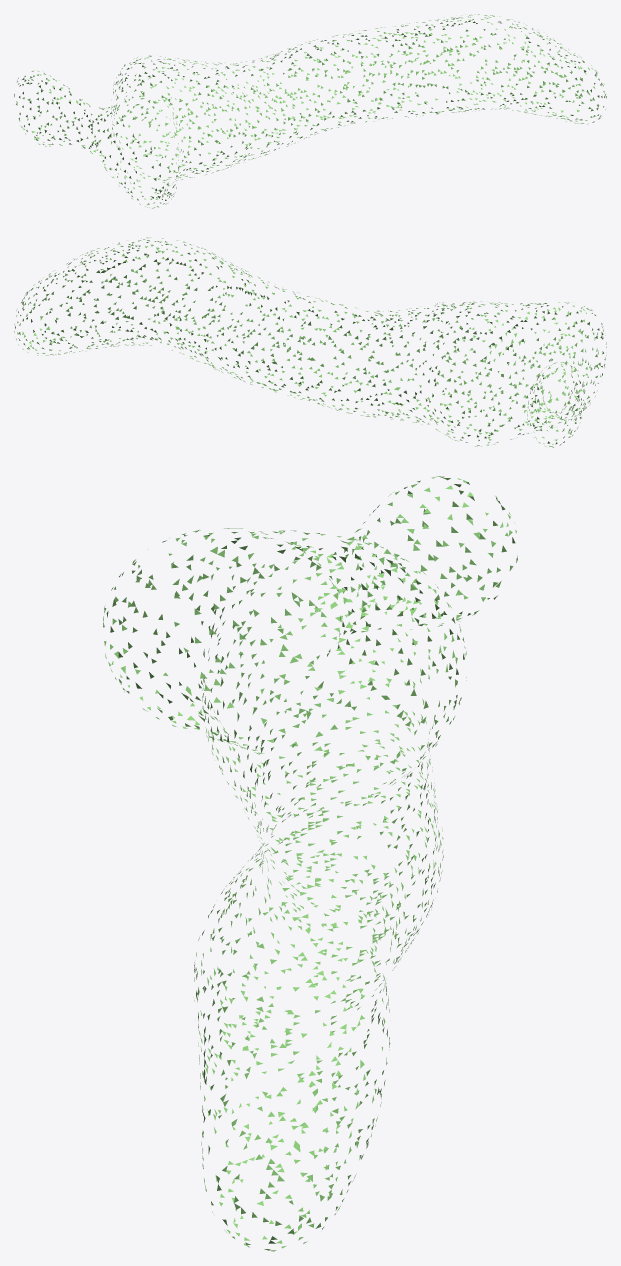
The model's file is morph_015.glb.
3 views of the same model, one above another, from view 1: azimuth 30°, elevation 25°; view 2: azimuth 150°, elevation 25°; view 3: azimuth 270°, elevation 25° (orthographic). The views are drawn at different scales.
Bounding box in the file's own units: 122 × 32.73 × 41.18.
